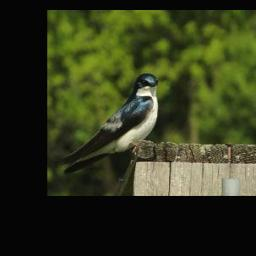Swallow: (57, 72, 160, 175)
